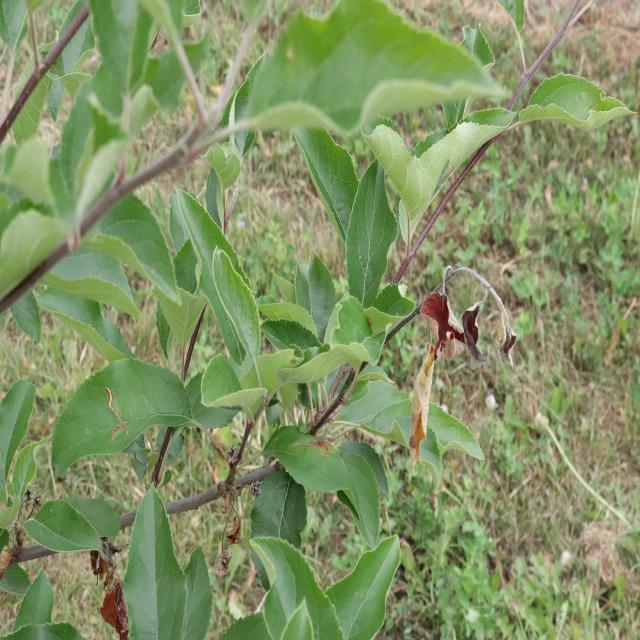-FireBlight-: (411, 284, 517, 472)
